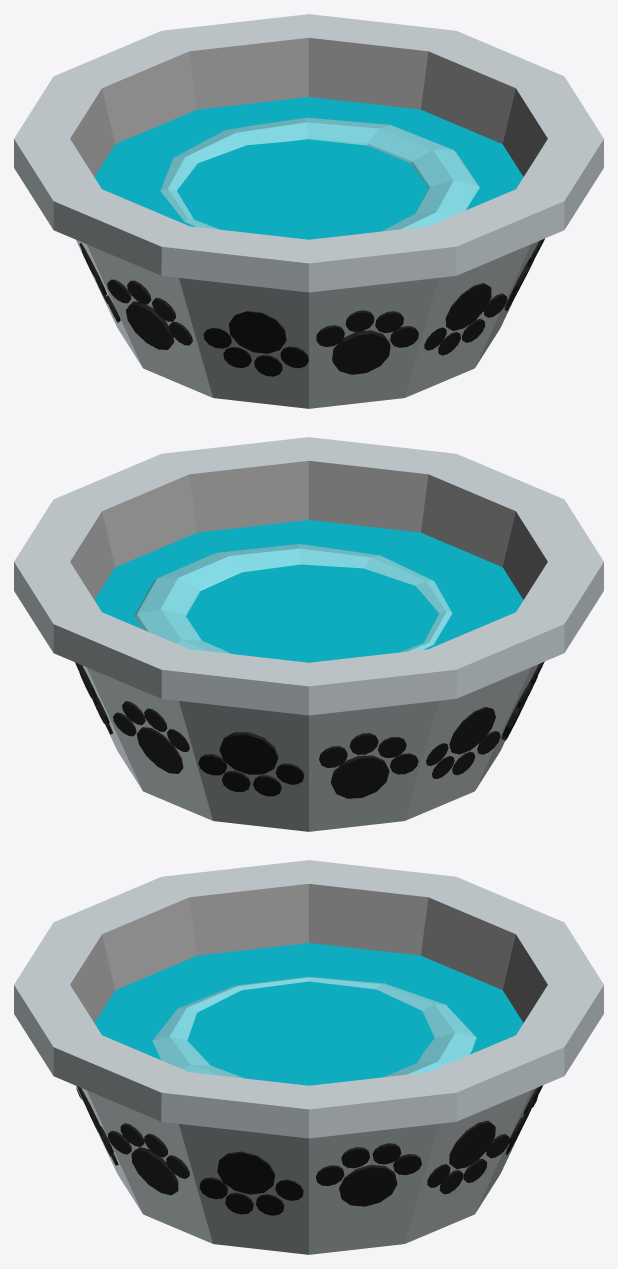
File: Doggy Water Bowl.glb
3 views of the same model, one above another, from view 1: azimuth 30°, elevation 25°; view 2: azimuth 150°, elevation 25°; view 3: azimuth 270°, elevation 25° (orthographic).
Visible parts, largest first — view 1: Node; view 2: Node; view 3: Node.
Part boxes in pixels (left/top/right/bottom): Node: left=14, top=14, right=603, bottom=408; Node: left=14, top=437, right=603, bottom=831; Node: left=14, top=860, right=603, bottom=1254.
Bounding box in the file's own units: 1.47 × 0.52 × 1.47.
